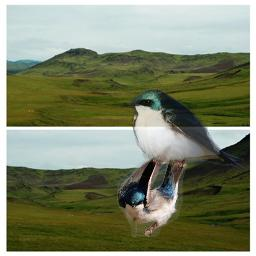Swallow: (127, 88, 244, 168), (117, 144, 187, 237)
